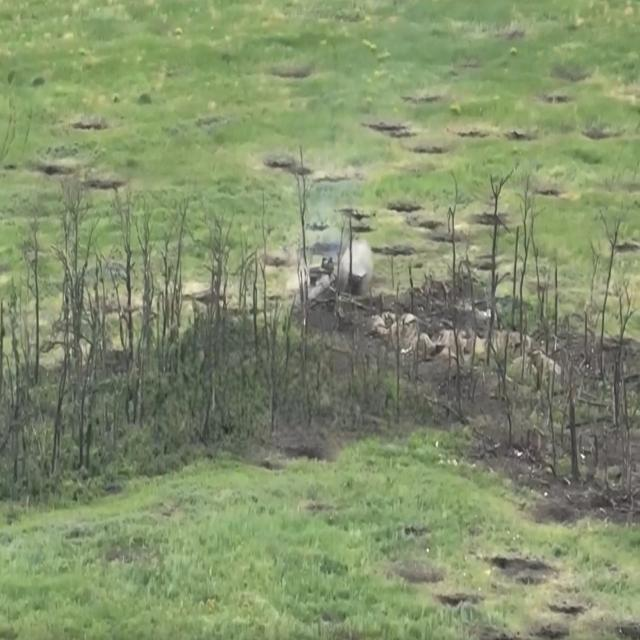AIFV: (308, 256, 369, 297)
